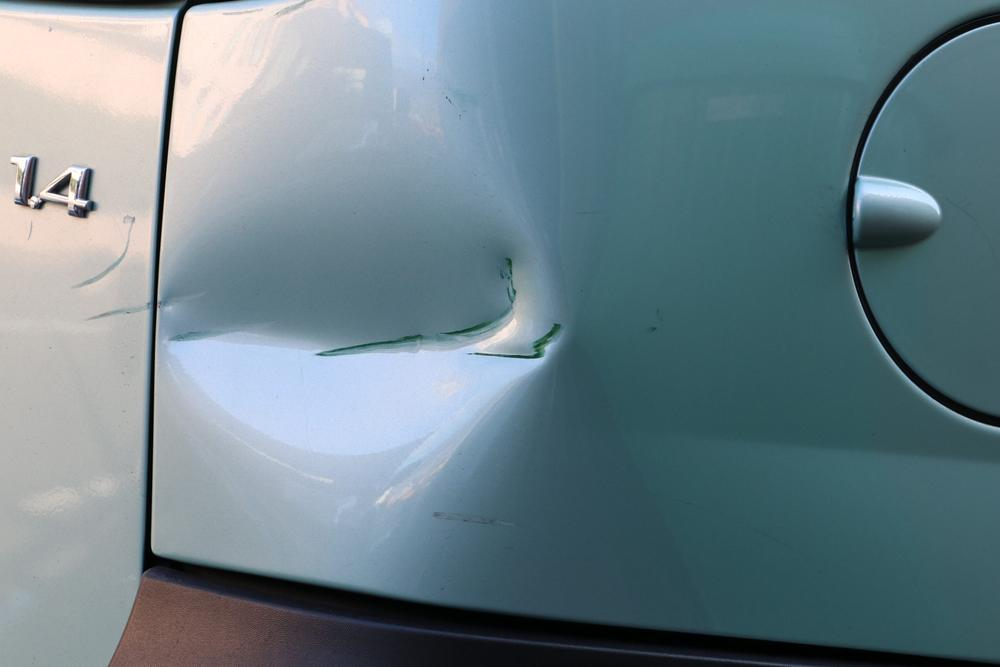dent: (159, 153, 563, 464)
